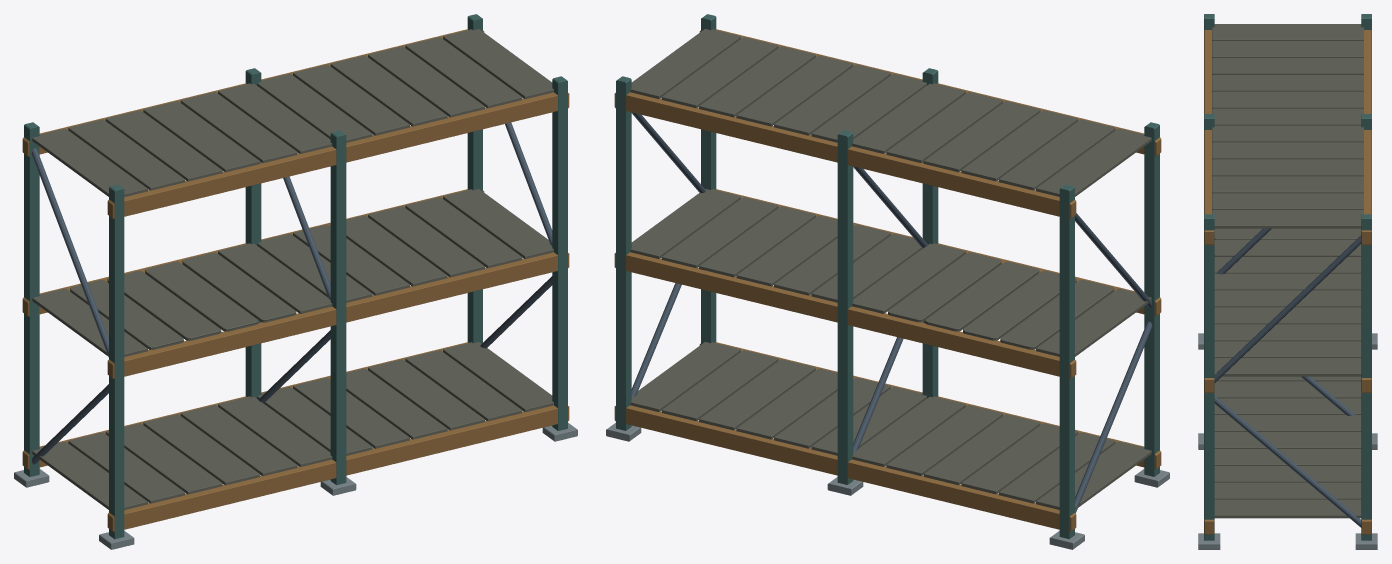
File: HG-05_pallet_rack.glb
3 views of the same model, side by side, from view 1: azimuth 30°, elevation 25°; view 2: azimuth 150°, elevation 25°; view 3: azimuth 270°, elevation 25° (orthographic). The views are drawn at different scales.
Parts seen in each view (by area): view 1: HG-05_pallet_rack; view 2: HG-05_pallet_rack; view 3: HG-05_pallet_rack.
Part boxes in pixels (x1,y1,x2,y2): HG-05_pallet_rack: (14,14,577,549); HG-05_pallet_rack: (606,14,1169,549); HG-05_pallet_rack: (1198,14,1377,549).
Size of the model in its own units: 4.95 by 3.6 by 1.78.
